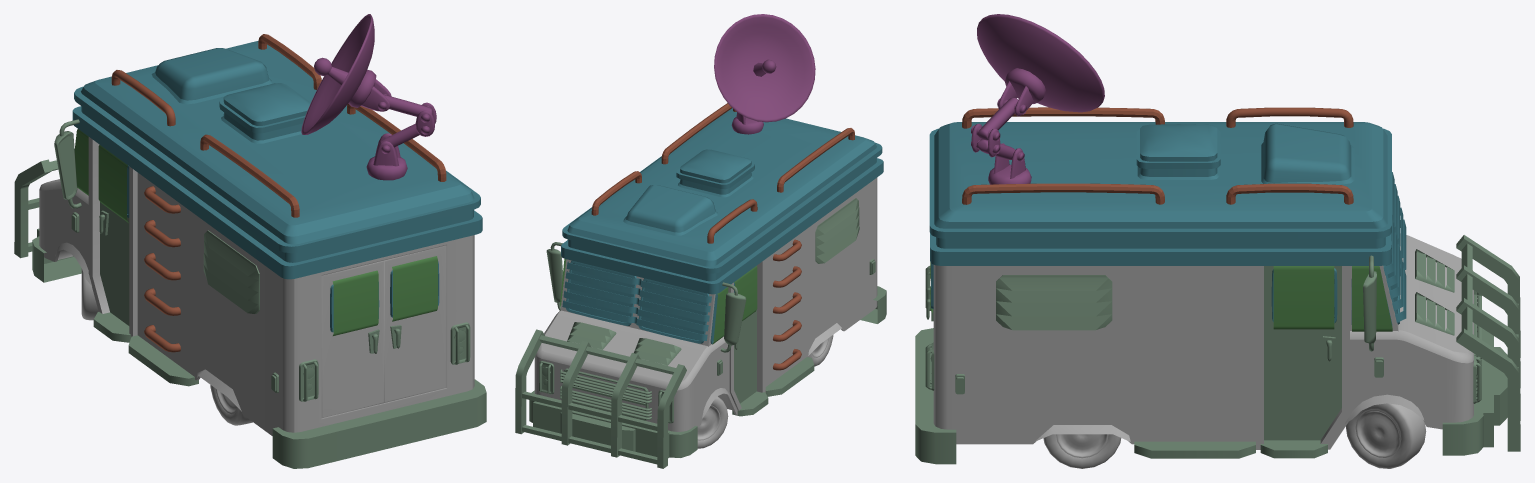
Rendered from VAN_v2.fbx.
3 renders of one model, left to right at view 1: azimuth 30°, elevation 25°; view 2: azimuth 150°, elevation 25°; view 3: azimuth 270°, elevation 25°, orthographic. The views are drawn at different scales.
Visible parts, largest first — view 1: Van_Full; view 2: Van_Full; view 3: Van_Full.
Boxes of the visible parts, x1=… form: Van_Full: x1=14, y1=14, x2=486, y2=468; Van_Full: x1=515, y1=14, x2=886, y2=468; Van_Full: x1=915, y1=14, x2=1520, y2=468.
Bounding box in the file's own units: 380 × 569 × 739.
